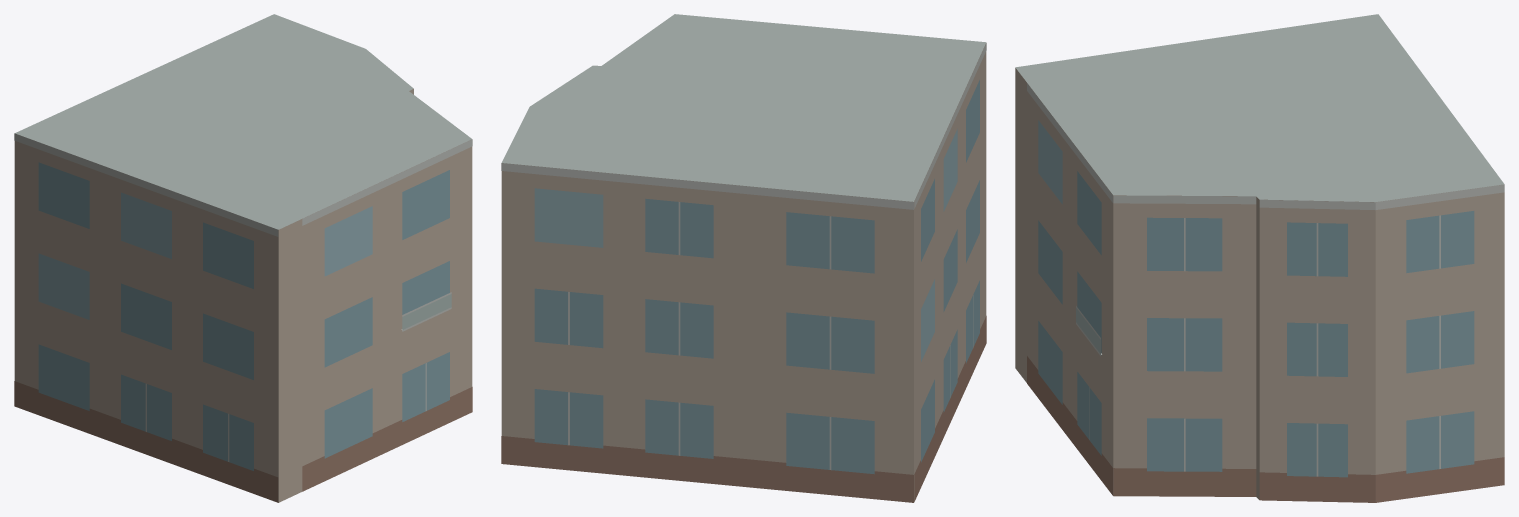
The model's file is survey-upis-32664780.glb.
3 views of the same model, side by side, from view 1: azimuth 30°, elevation 25°; view 2: azimuth 150°, elevation 25°; view 3: azimuth 270°, elevation 25° (orthographic). The views are drawn at different scales.
Visible parts, largest first — view 1: survey-upis-32664780.tmp; view 2: survey-upis-32664780.tmp; view 3: survey-upis-32664780.tmp.
Boxes of the visible parts, left/top/right/bottom form: survey-upis-32664780.tmp: left=14, top=14, right=472, bottom=502; survey-upis-32664780.tmp: left=501, top=14, right=986, bottom=502; survey-upis-32664780.tmp: left=1015, top=14, right=1504, bottom=502.
Size of the model in its own units: 12.29 by 9.15 by 13.51.
